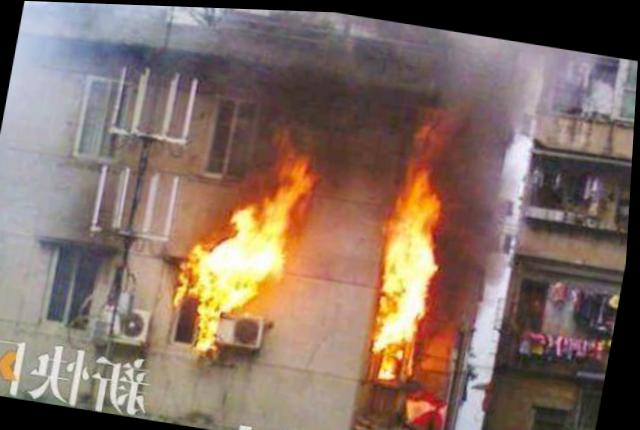fire: (373, 162, 456, 354), (255, 147, 318, 282), (206, 229, 271, 311), (178, 238, 215, 298), (232, 203, 270, 239), (203, 302, 229, 350), (382, 345, 407, 379)
smoke: (176, 5, 409, 148), (0, 0, 108, 286), (386, 21, 549, 181)
